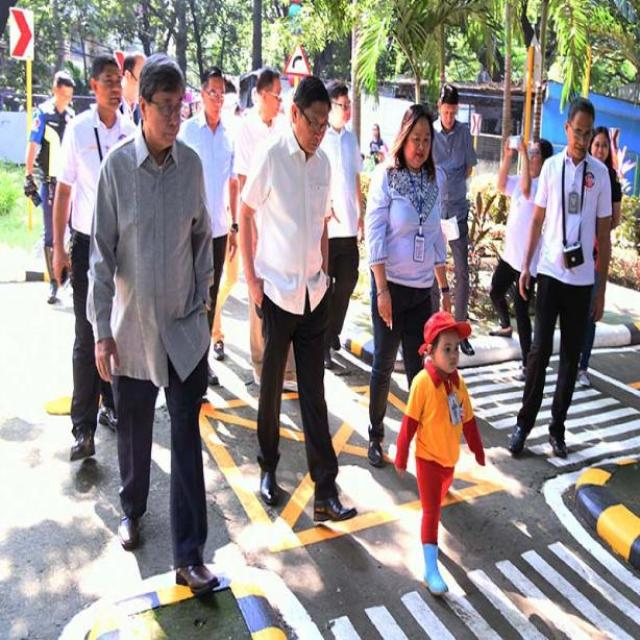pedestrian lane: (327, 533, 640, 638), (456, 345, 640, 472)
